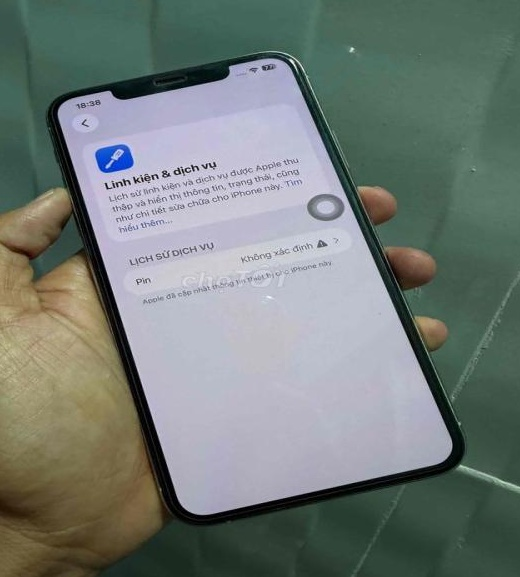scratch: (366, 300, 403, 324), (44, 113, 66, 139), (220, 513, 249, 532)
